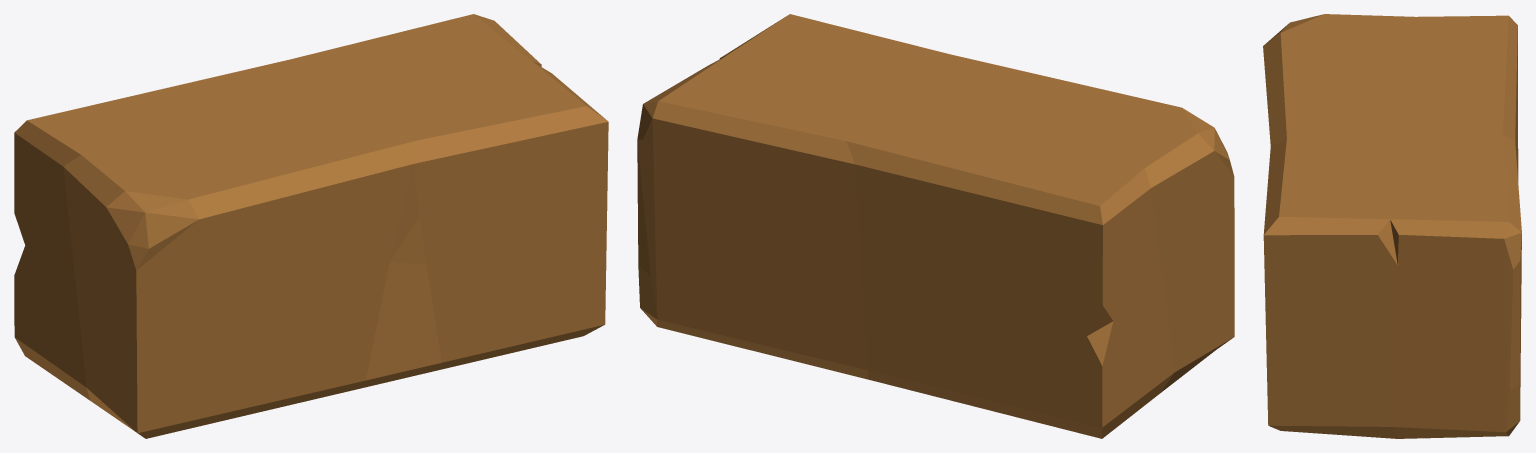
File: BlockSandStoneA.fbx
The picture shows the model from 3 angles, left to right: view 1: azimuth 30°, elevation 25°; view 2: azimuth 150°, elevation 25°; view 3: azimuth 270°, elevation 25°; orthographic projection. The views are drawn at different scales.
Parts seen in each view (by area): view 1: BlockSandStoneA; view 2: BlockSandStoneA; view 3: BlockSandStoneA.
Part boxes in pixels (left/top/right/bottom): BlockSandStoneA: left=14, top=14, right=608, bottom=438; BlockSandStoneA: left=637, top=14, right=1234, bottom=438; BlockSandStoneA: left=1263, top=14, right=1521, bottom=438.
Bounding box in the file's own units: 79.62 × 37.2 × 39.41.
